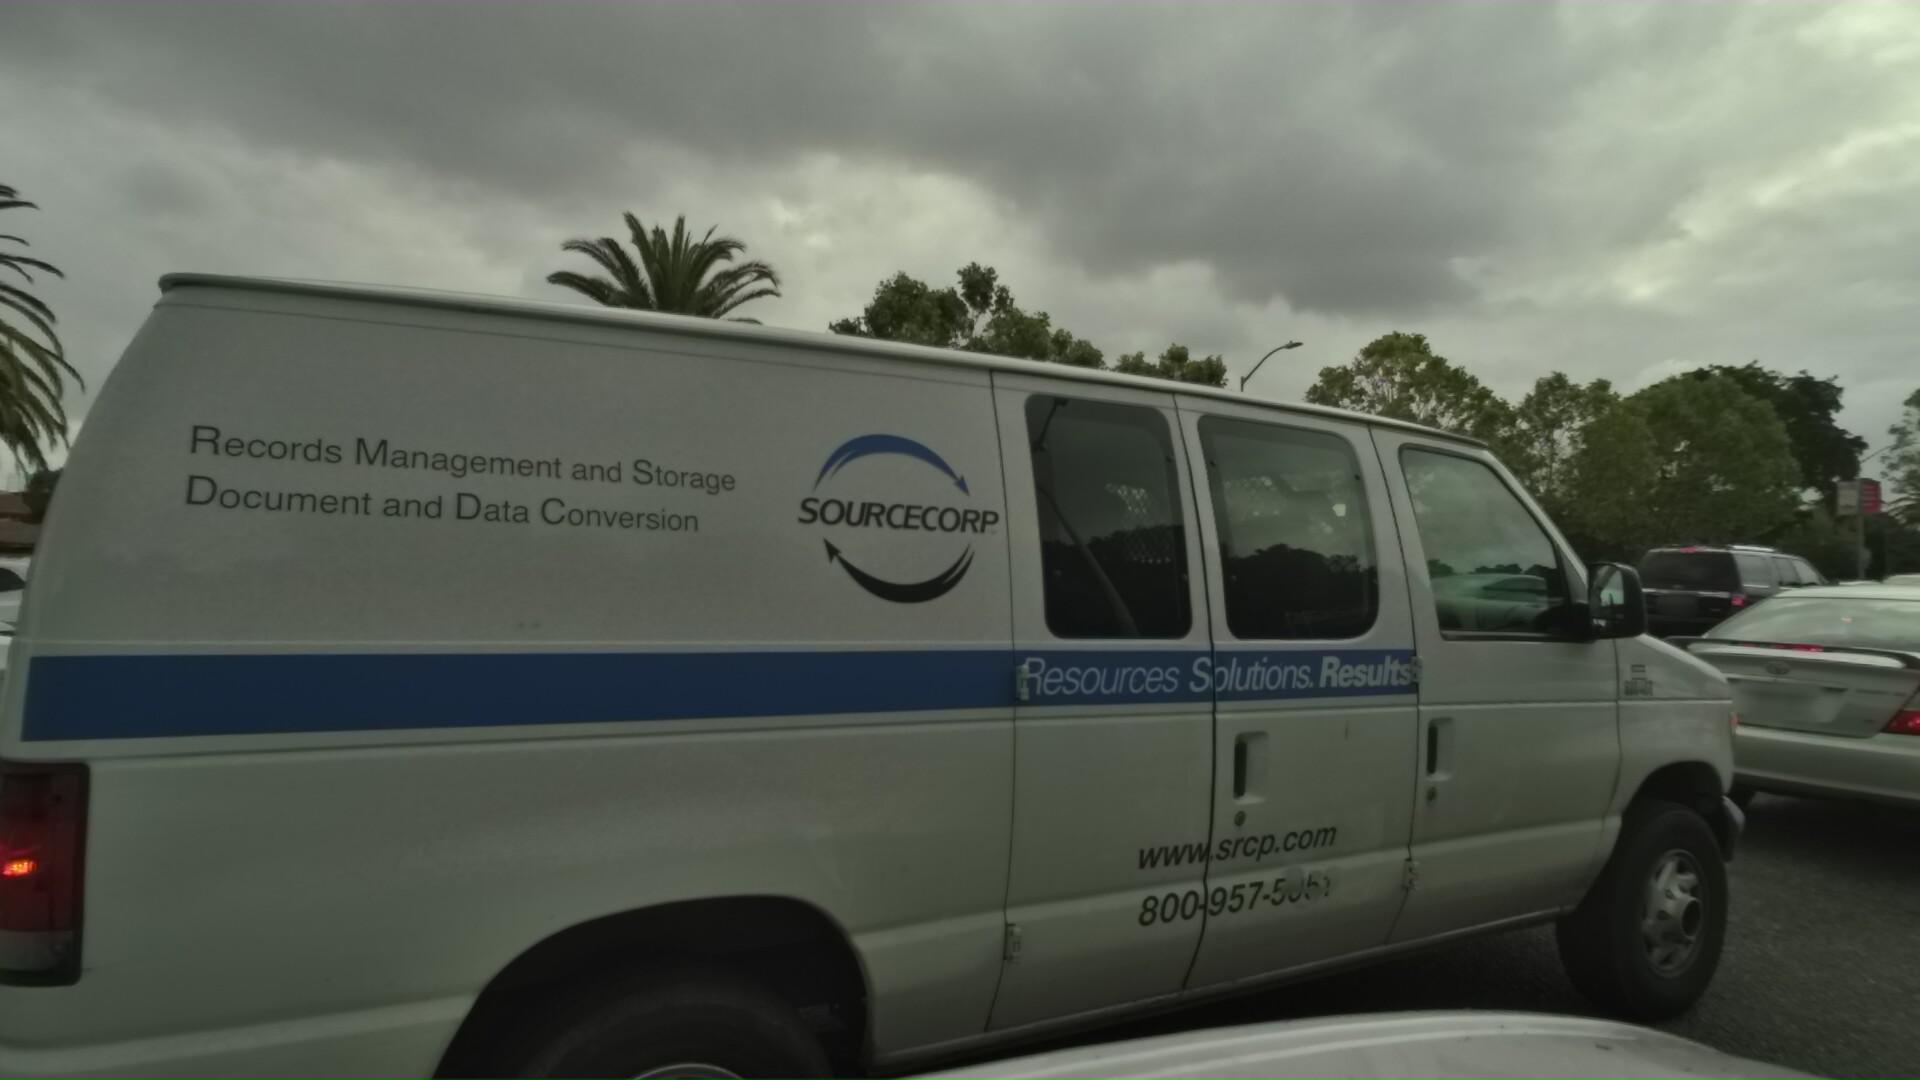car: (0, 29, 1820, 1080), (1604, 560, 1920, 919), (0, 522, 276, 913), (967, 558, 1361, 708), (1361, 553, 1664, 670), (1611, 538, 1884, 665), (0, 531, 88, 752), (1817, 570, 1920, 696), (0, 578, 117, 647), (1837, 556, 1920, 640), (1764, 568, 1888, 622)
